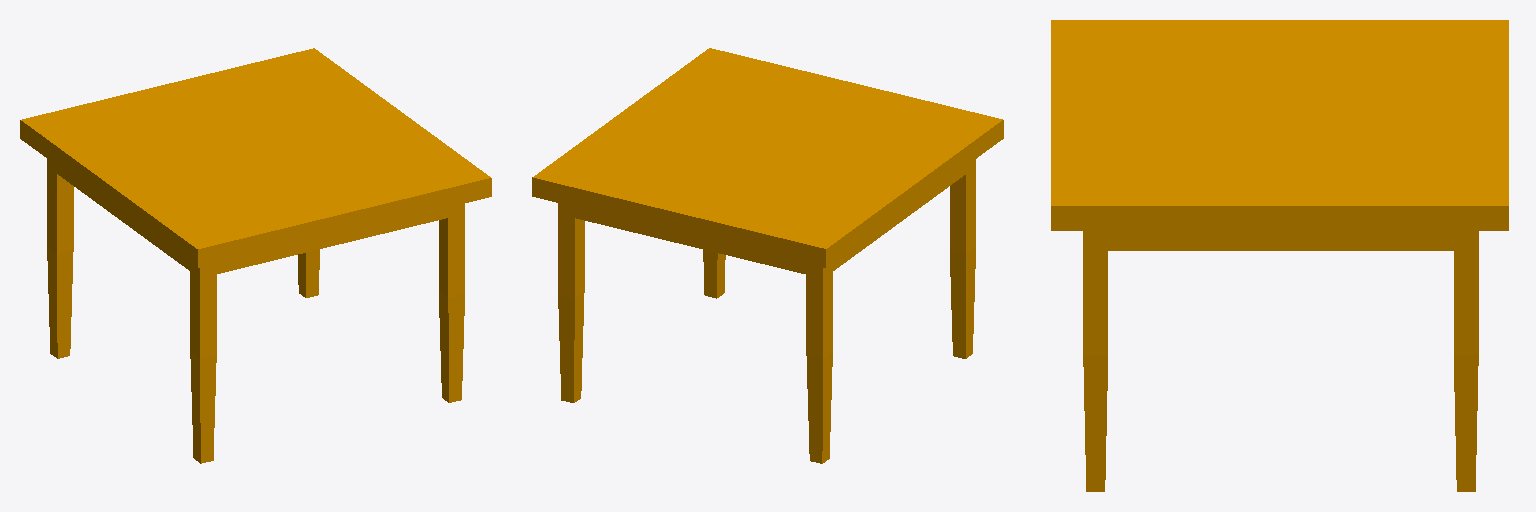
The robot description file, URDF, robot "Table":
<robot name="Table">
    <link name="table">
        <visual>
            <geometry>
                <mesh filename="meshes/table.obj"/>
            </geometry>
        </visual>
        <collision>
            <geometry>
                <mesh filename="meshes/table.obj"/>
            </geometry>
        </collision>
    </link>
</robot>

--- Render facts (derived) ---
The picture shows the robot from 3 angles, left to right: view 1: azimuth 30°, elevation 25°; view 2: azimuth 150°, elevation 25°; view 3: azimuth 270°, elevation 25°; orthographic projection.
Model Table with 1 links and 0 joints (none), rooted at table, posed all joints at 0.
Links seen in each view (by area): view 1: table; view 2: table; view 3: table.
Link boxes in pixels (left/top/right/bottom): table: left=20, top=48, right=491, bottom=463; table: left=532, top=48, right=1003, bottom=463; table: left=1051, top=20, right=1508, bottom=491.
Size in the robot's own frame: 0.1765 by 0.1842 by 0.1311 metres.
1 mesh visuals loaded from 1 distinct referenced files (1 OBJ).